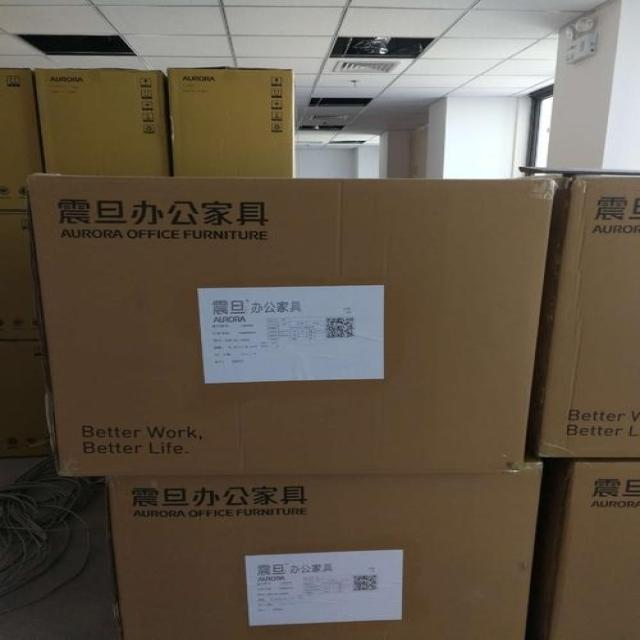box: (27, 173, 553, 477), (106, 455, 543, 640), (0, 342, 116, 639), (538, 175, 640, 459), (534, 457, 640, 639), (35, 68, 170, 177), (168, 66, 297, 178), (0, 68, 46, 343)
